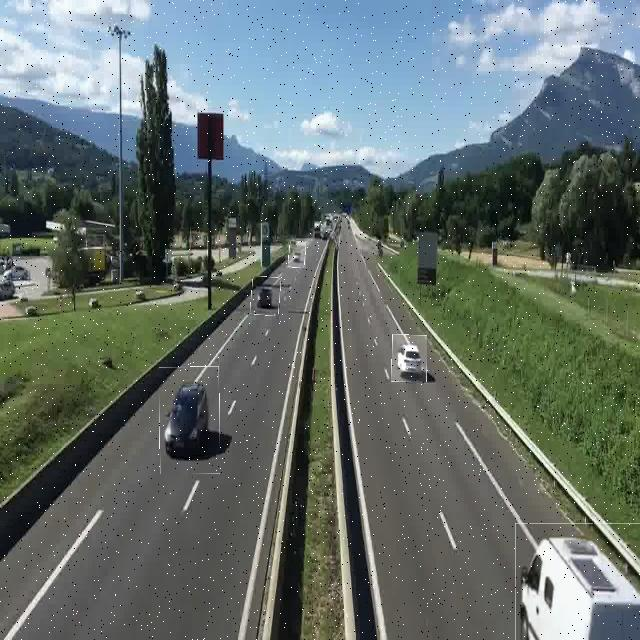Car: (515, 523, 640, 640), (160, 367, 220, 474), (392, 335, 427, 382), (251, 276, 280, 316), (288, 242, 306, 268)
